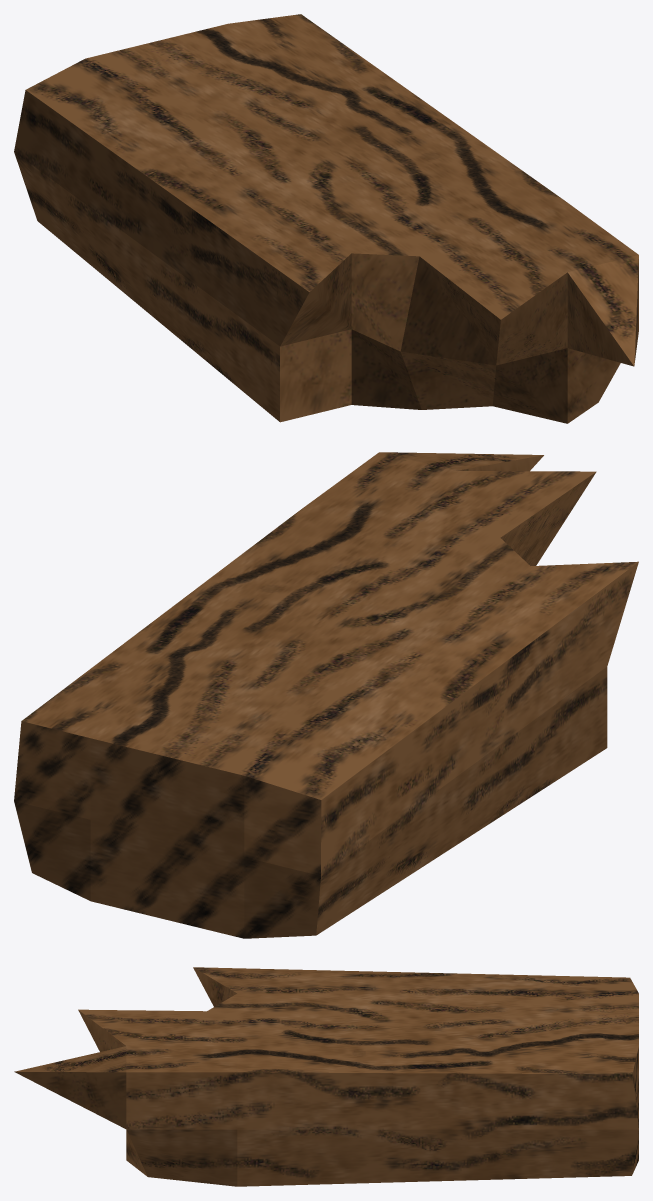
Rendered from JoãoPedroBaião_882555 (2).fbx_DestrocosMadeira.fbx.
The picture shows the model from 3 angles, top to bottom: view 1: azimuth 30°, elevation 25°; view 2: azimuth 150°, elevation 25°; view 3: azimuth 270°, elevation 25°; orthographic projection. The views are drawn at different scales.
Visible parts, largest first — view 1: DestrocosMadeira; view 2: DestrocosMadeira; view 3: DestrocosMadeira.
Part boxes in pixels (left/top/right/bottom): DestrocosMadeira: left=14, top=14, right=638, bottom=423; DestrocosMadeira: left=14, top=452, right=638, bottom=938; DestrocosMadeira: left=14, top=967, right=638, bottom=1186.
Bounding box in the file's own units: 30.78 × 15.62 × 77.34.
